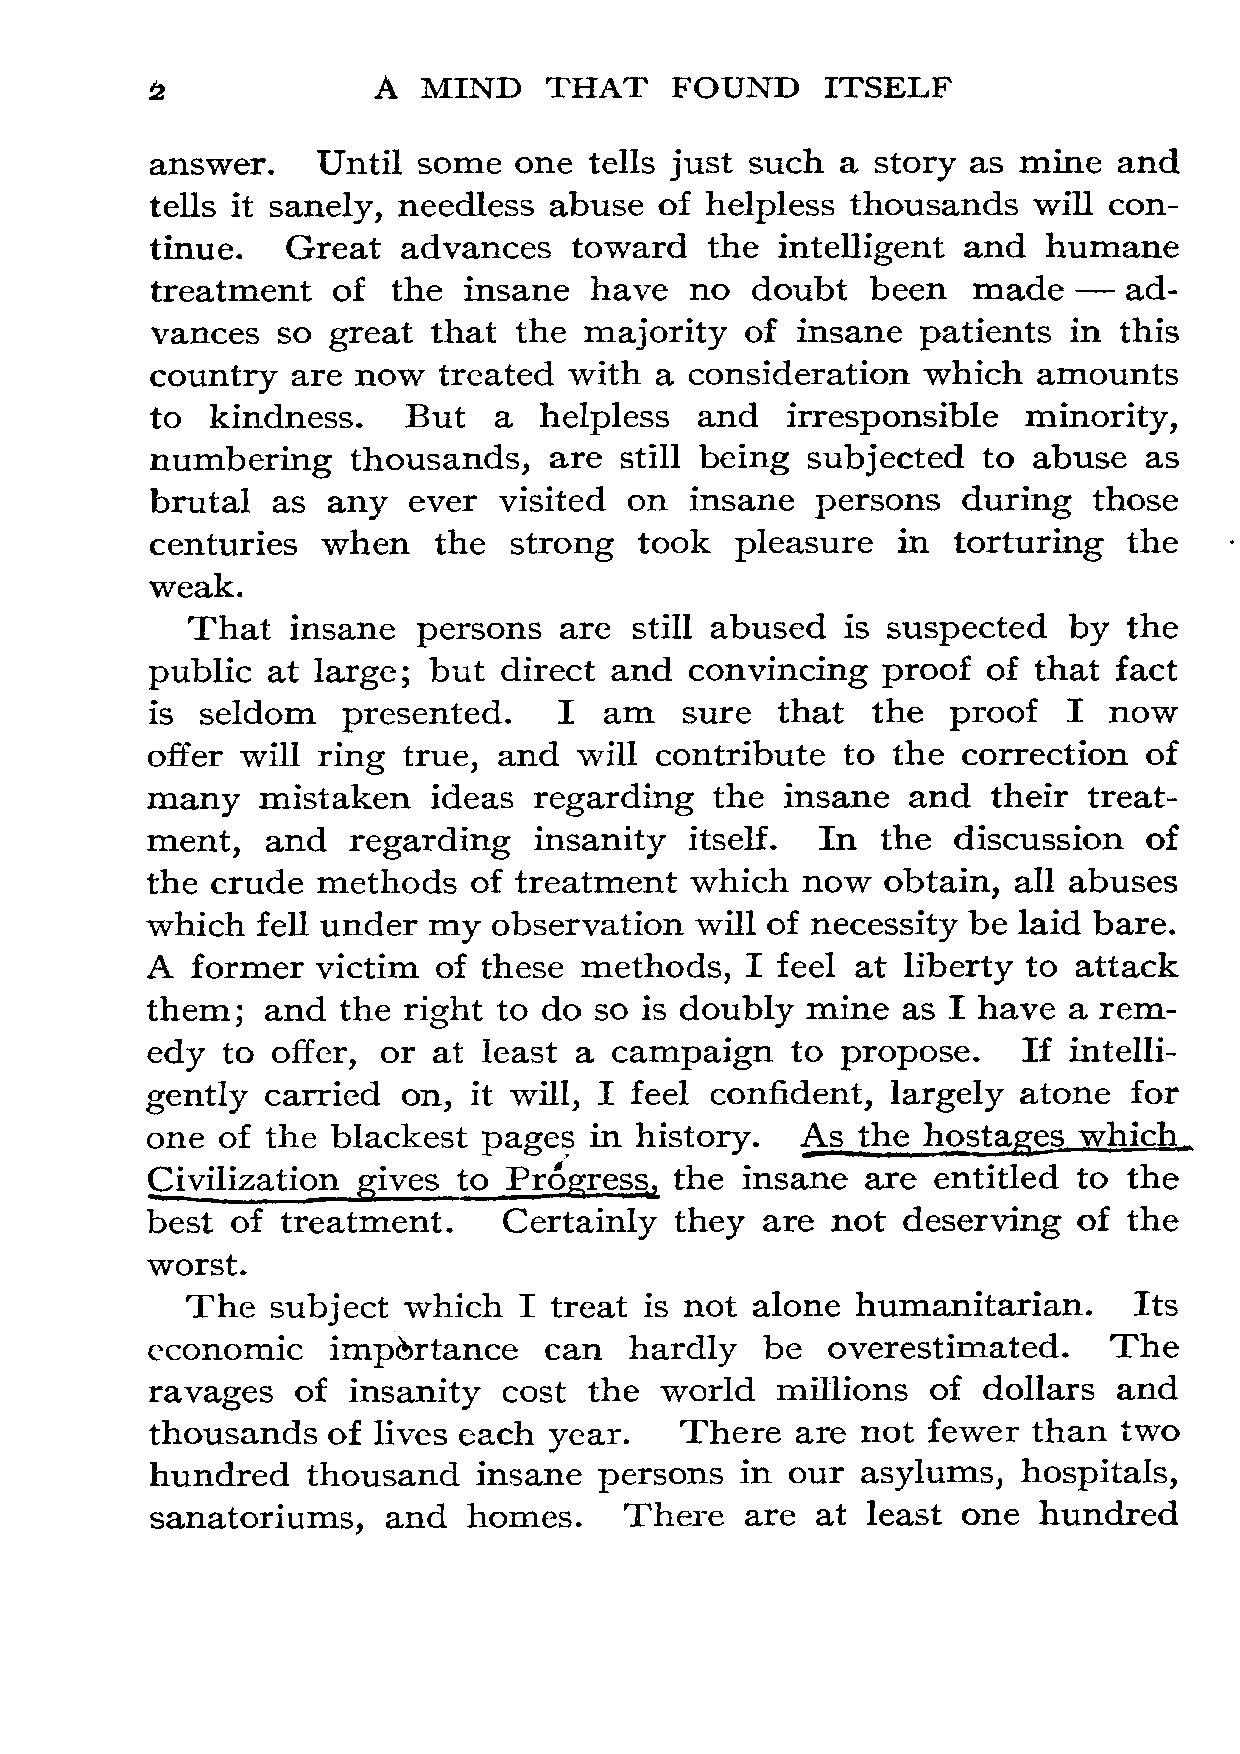content: (144, 145, 1186, 1531)
content_chapter: (372, 72, 954, 102)
content_pagenumber: (144, 71, 168, 107)
